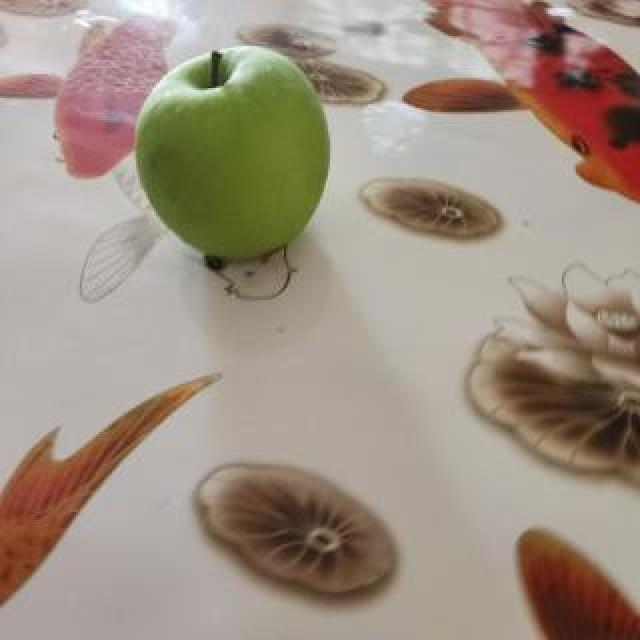Fresh Apple: (123, 42, 335, 272)
